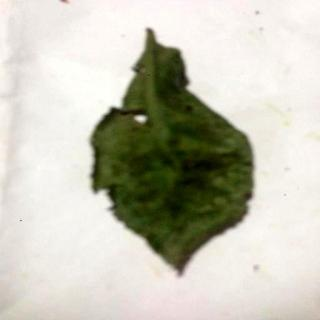Red Leaf Spot: (92, 30, 255, 273)
